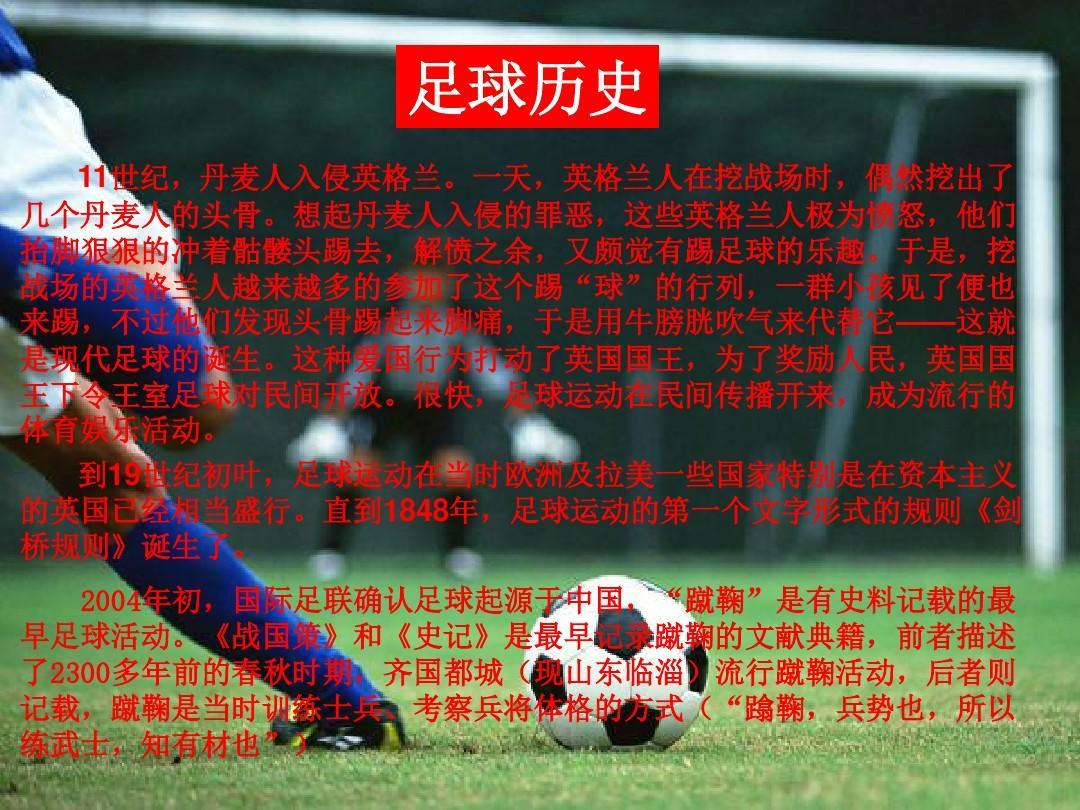football: (520, 570, 708, 767)
